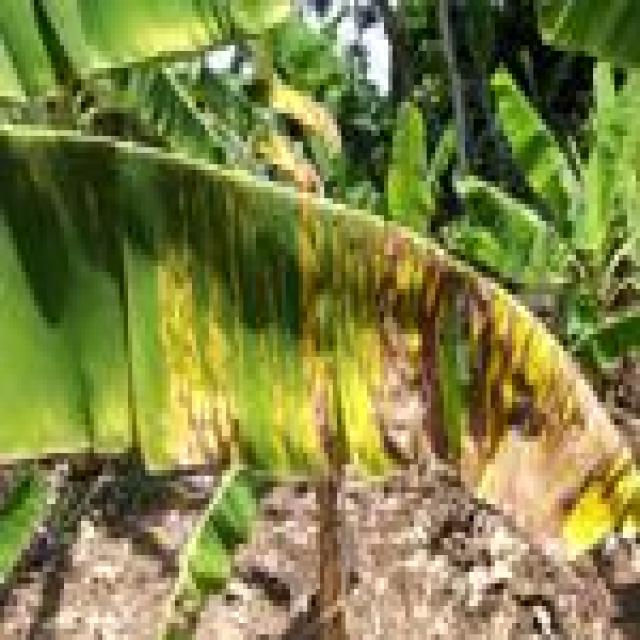Early_rust: (127, 160, 640, 538)
